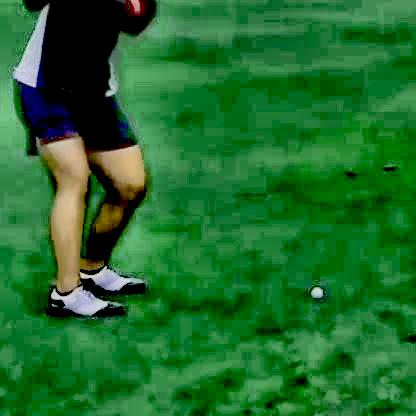golfball: (305, 284, 323, 300)
